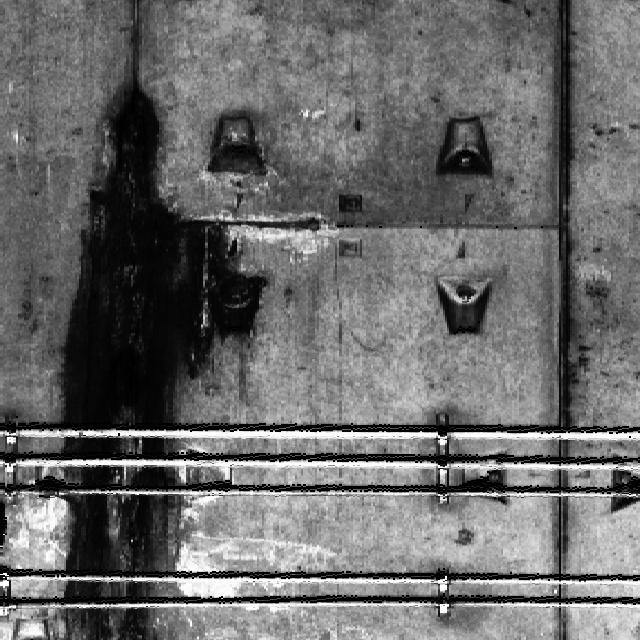leakage: (52, 21, 268, 639)
